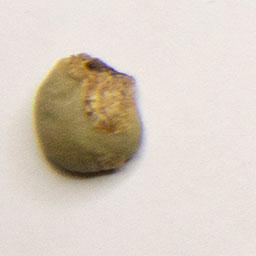defect: (30, 48, 148, 179)
